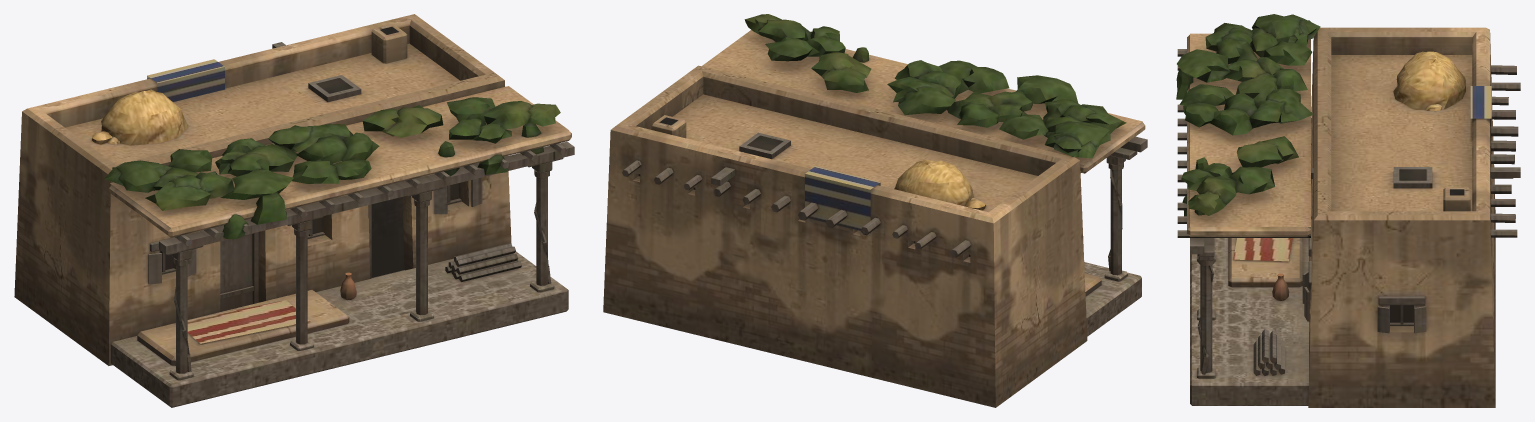
3 renders of one model, left to right at view 1: azimuth 30°, elevation 25°; view 2: azimuth 150°, elevation 25°; view 3: azimuth 270°, elevation 25°, orthographic. The views are drawn at different scales.
Parts seen in each view (by area): view 1: oh_c; view 2: oh_c; view 3: oh_c.
Boxes of the visible parts, left/top/right/bottom form: oh_c: left=14, top=14, right=574, bottom=407; oh_c: left=603, top=14, right=1147, bottom=407; oh_c: left=1176, top=14, right=1520, bottom=407.
Bounding box in the file's own units: 8.58 × 4.11 × 6.26.
1 material, 1 textured.
